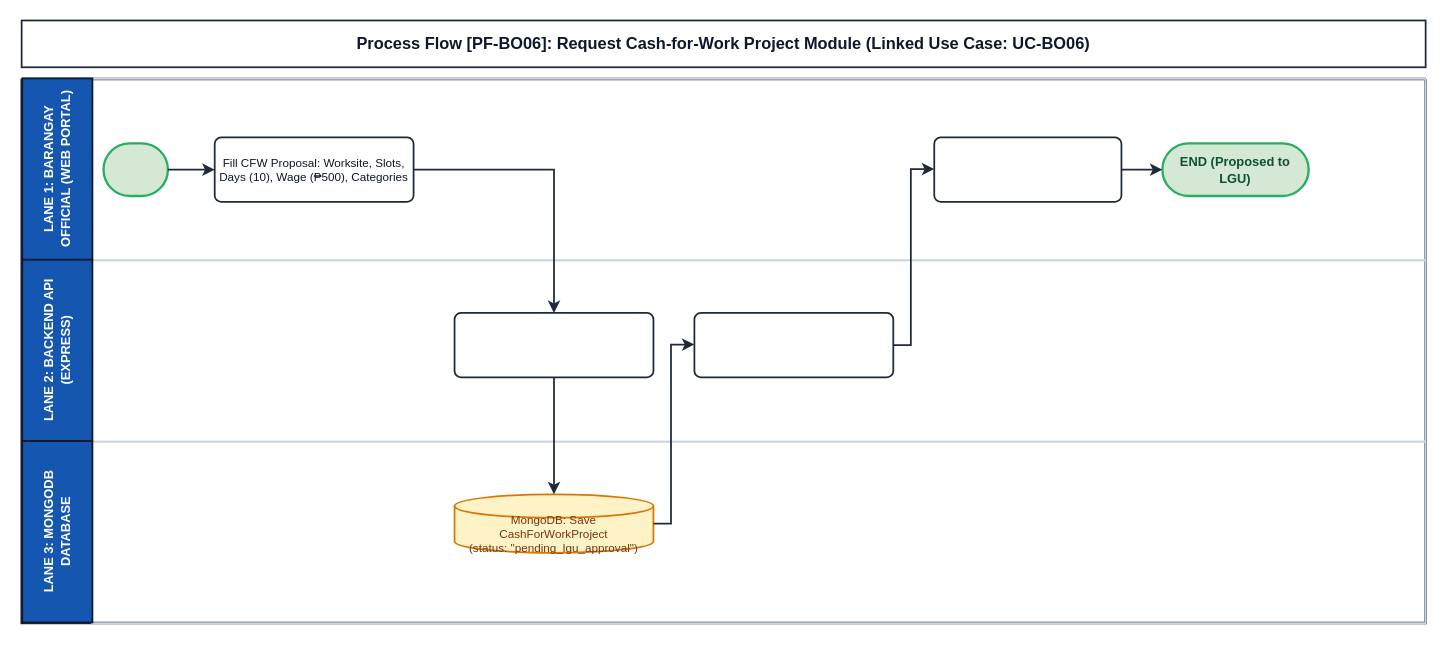
Image size: 1446x645. Some labels were removed from this diagram. Each missing label, with the centre of its shape:
Display Proposal Status as "Awaiting LGU Budget Approval": pixel 1027 169
POST /api/cash-for-work/projects/request Proposal Payload: pixel 553 345
Socket.IO: Emit "cfw_project_proposed" Notification to LGU Admin Command: pixel 793 345
START: pixel 135 169
